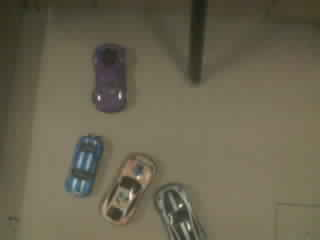Car: (101, 153, 154, 224), (156, 183, 204, 239), (95, 44, 127, 111), (67, 137, 101, 195)
